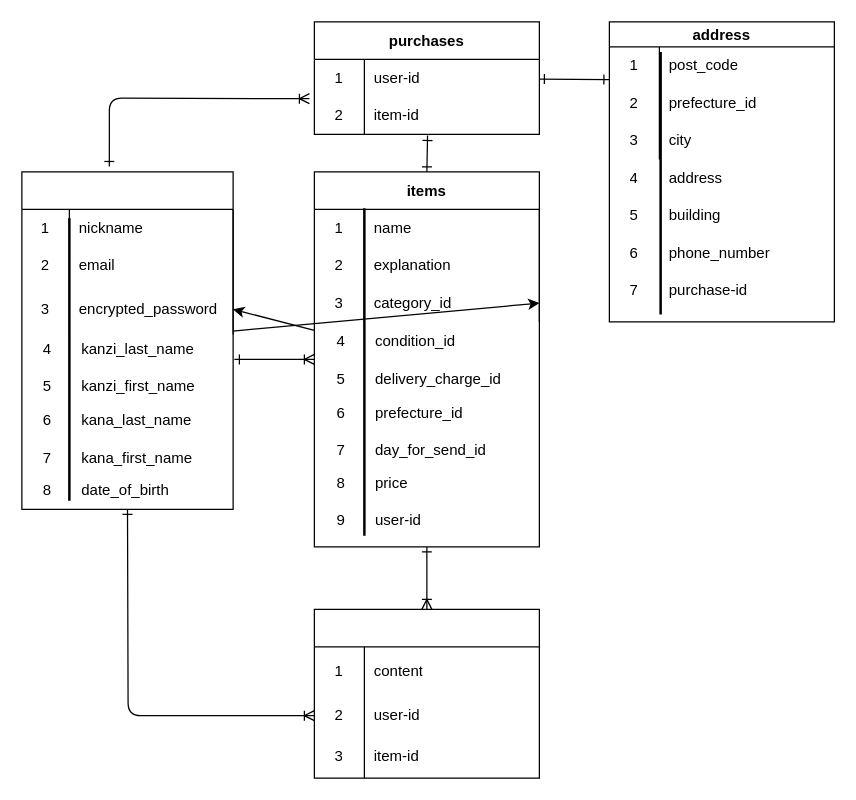
This 856x800 diagram has some shape labels left out. The shapes that lost their labels are listed below. From the top down, each one's box as (x1, y1, x2, y2) in pixels, then its label:
(21, 171, 233, 509): users
(313, 608, 539, 778): comments
